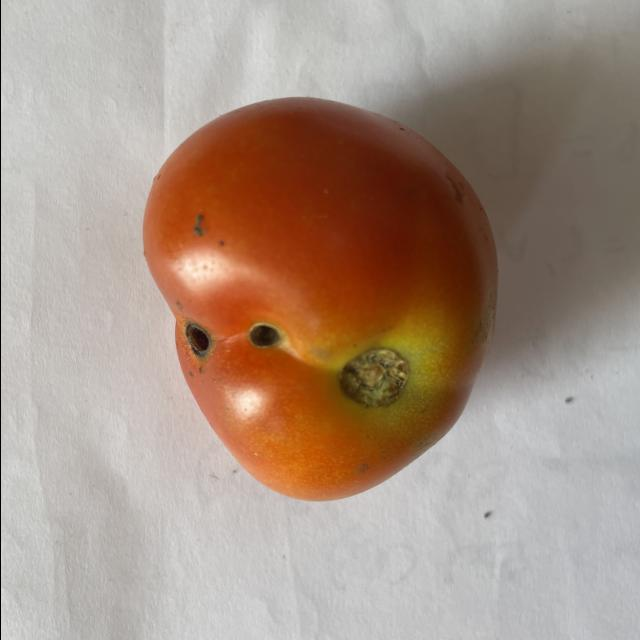fruitworm_bore: (175, 304, 282, 366)
